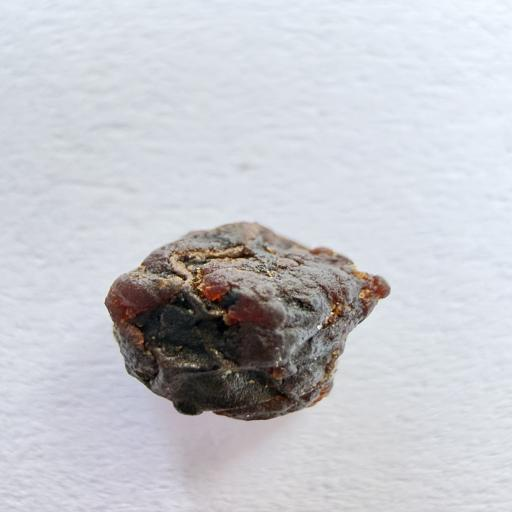Black_pepper: (69, 168, 416, 459)
